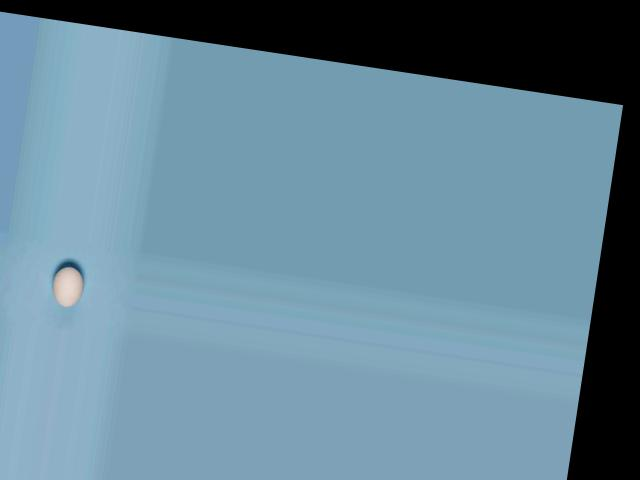egg: (49, 264, 85, 309)
